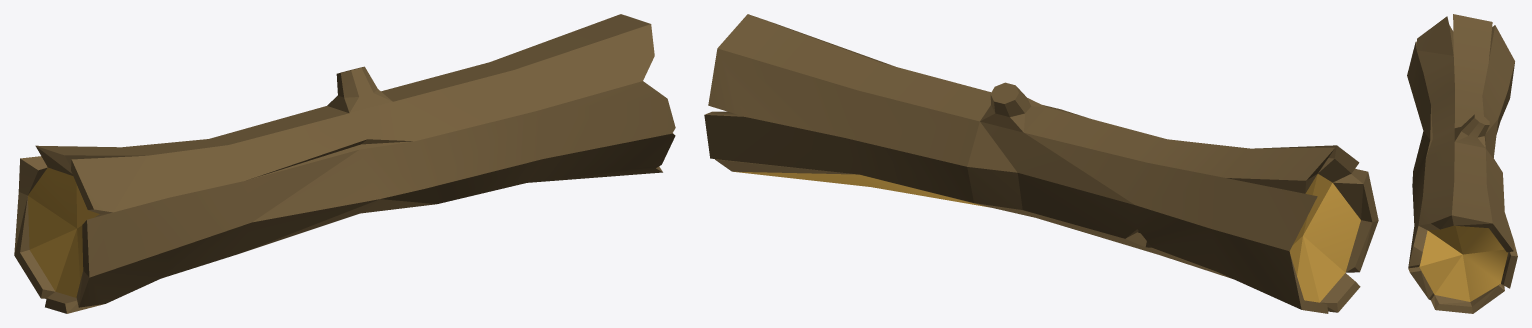
The model's file is stump1.fbx.
The picture shows the model from 3 angles, left to right: view 1: azimuth 30°, elevation 25°; view 2: azimuth 150°, elevation 25°; view 3: azimuth 270°, elevation 25°; orthographic projection. The views are drawn at different scales.
Visible parts, largest first — view 1: log_2; view 2: log_2; view 3: log_2.
Part boxes in pixels (x1=…): log_2: x1=14, y1=14, x2=675, y2=313; log_2: x1=704, y1=14, x2=1378, y2=313; log_2: x1=1407, y1=14, x2=1517, y2=313.
Bounding box in the file's own units: 390 × 97.05 × 92.08.
